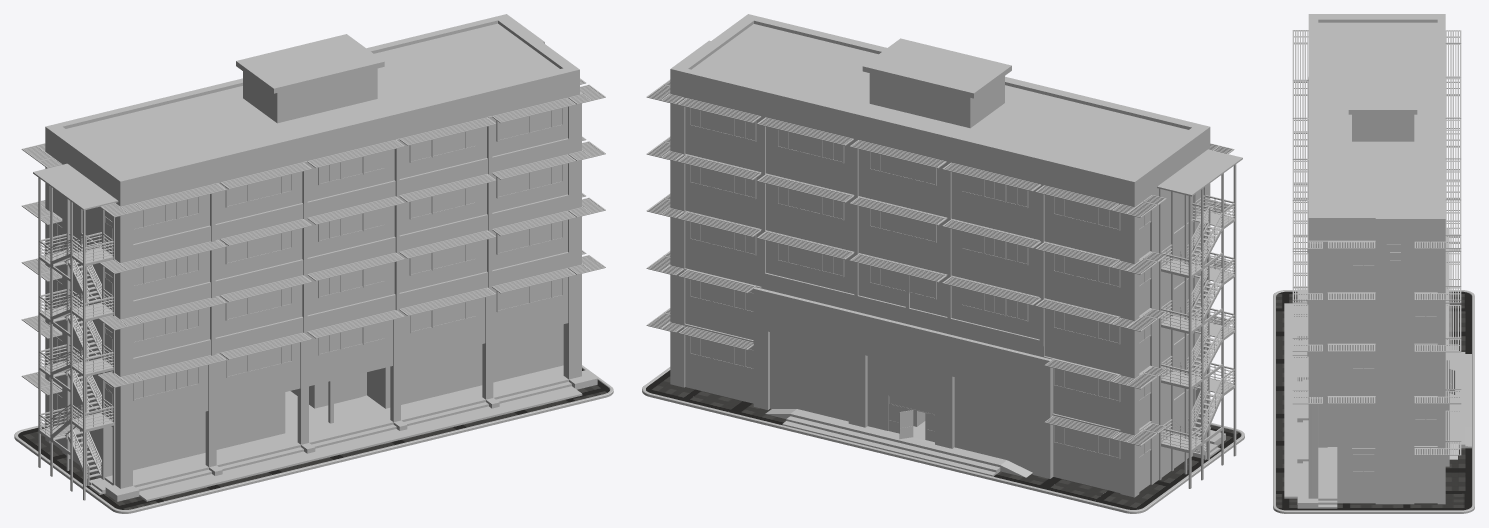
The model's file is ToaE.fbx.
The picture shows the model from 3 angles, left to right: view 1: azimuth 30°, elevation 25°; view 2: azimuth 150°, elevation 25°; view 3: azimuth 270°, elevation 25°; orthographic projection. The views are drawn at different scales.
Visible parts, largest first — view 1: TOAE; view 2: TOAE; view 3: TOAE.
Boxes of the visible parts, x1,y1,x2,y2 form: TOAE: (14, 14, 613, 513); TOAE: (642, 14, 1244, 513); TOAE: (1273, 14, 1474, 513).
Size of the model in its own units: 3310 by 2153 by 1237.
